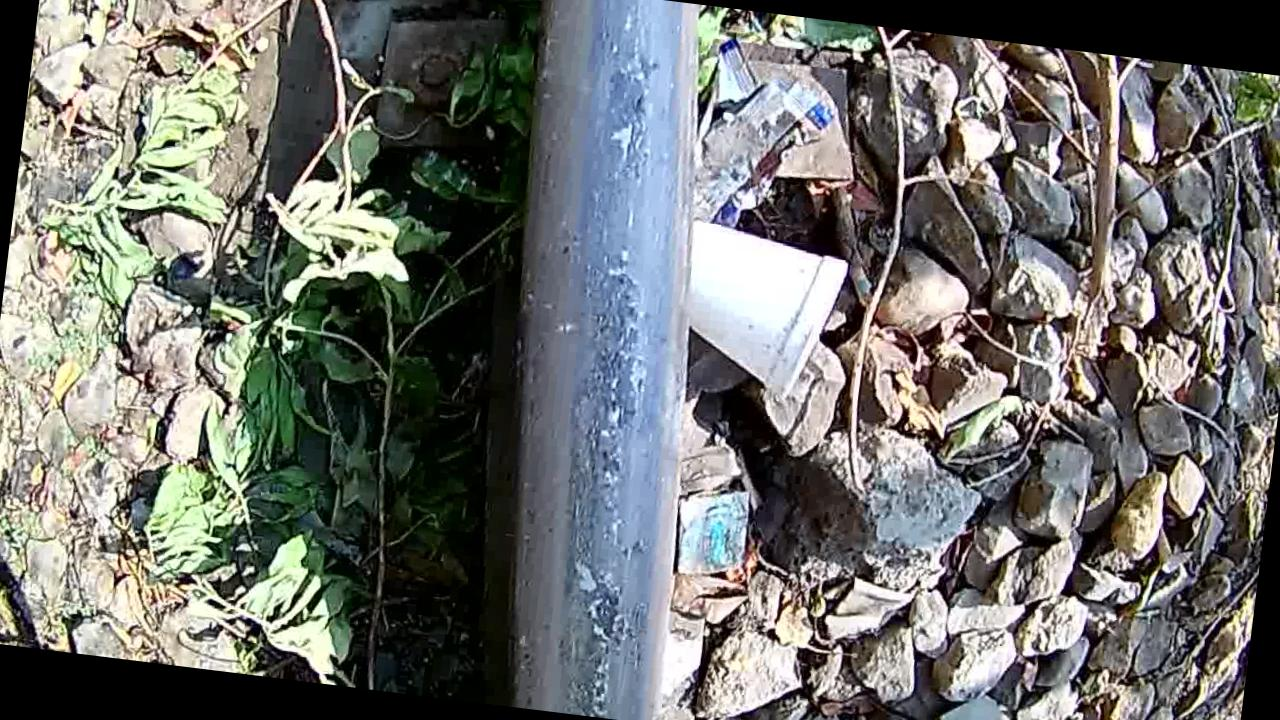crack: (474, 0, 726, 720)
